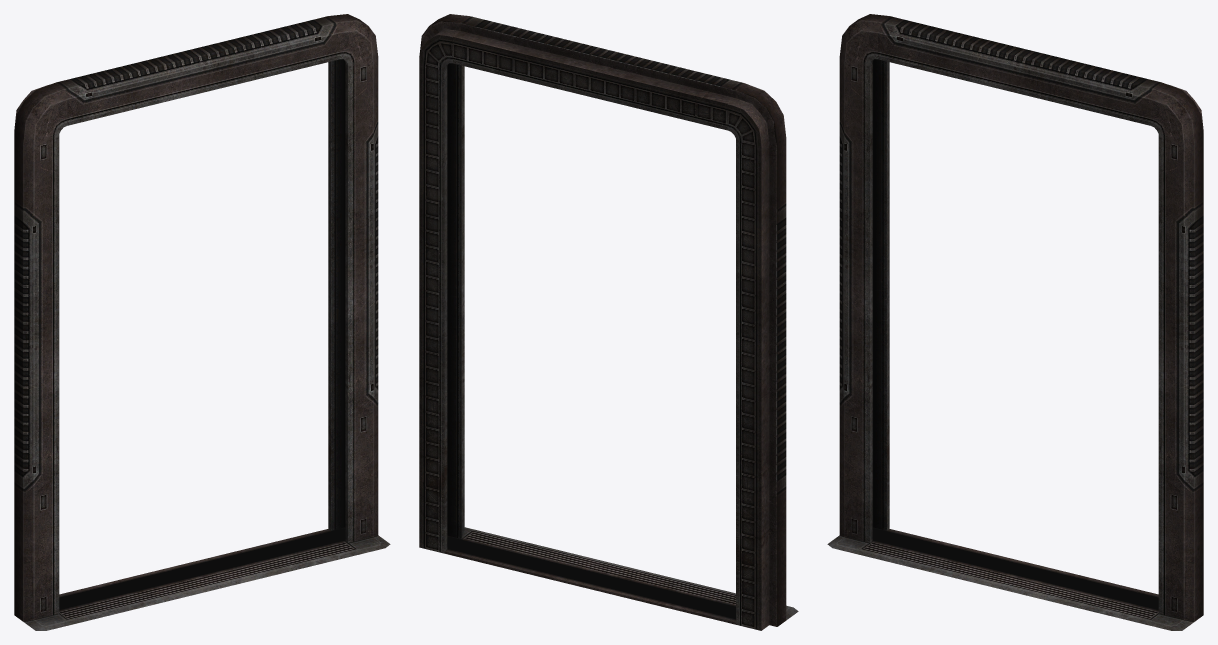
The model's file is 03_02_security_shutter_frame.dae.
3 renders of one model, left to right at view 1: azimuth 30°, elevation 25°; view 2: azimuth 150°, elevation 25°; view 3: azimuth 330°, elevation 25°, orthographic.
Parts seen in each view (by area): view 1: polySurface6; view 2: polySurface6; view 3: polySurface6.
Part boxes in pixels (box(x1,y1,x2,y2)): polySurface6: box(14, 14, 390, 630); polySurface6: box(419, 14, 798, 630); polySurface6: box(827, 14, 1203, 630).
Size of the model in its own units: 1.98 by 2.79 by 0.3087.
